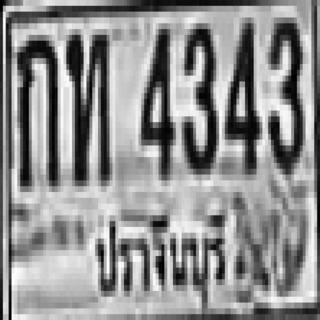A01: (16, 29, 56, 186)
A23: (65, 29, 108, 180)
N03: (265, 12, 300, 169), (180, 17, 215, 169)
N04: (222, 17, 256, 169), (140, 23, 172, 175)
P49: (90, 208, 230, 315)
